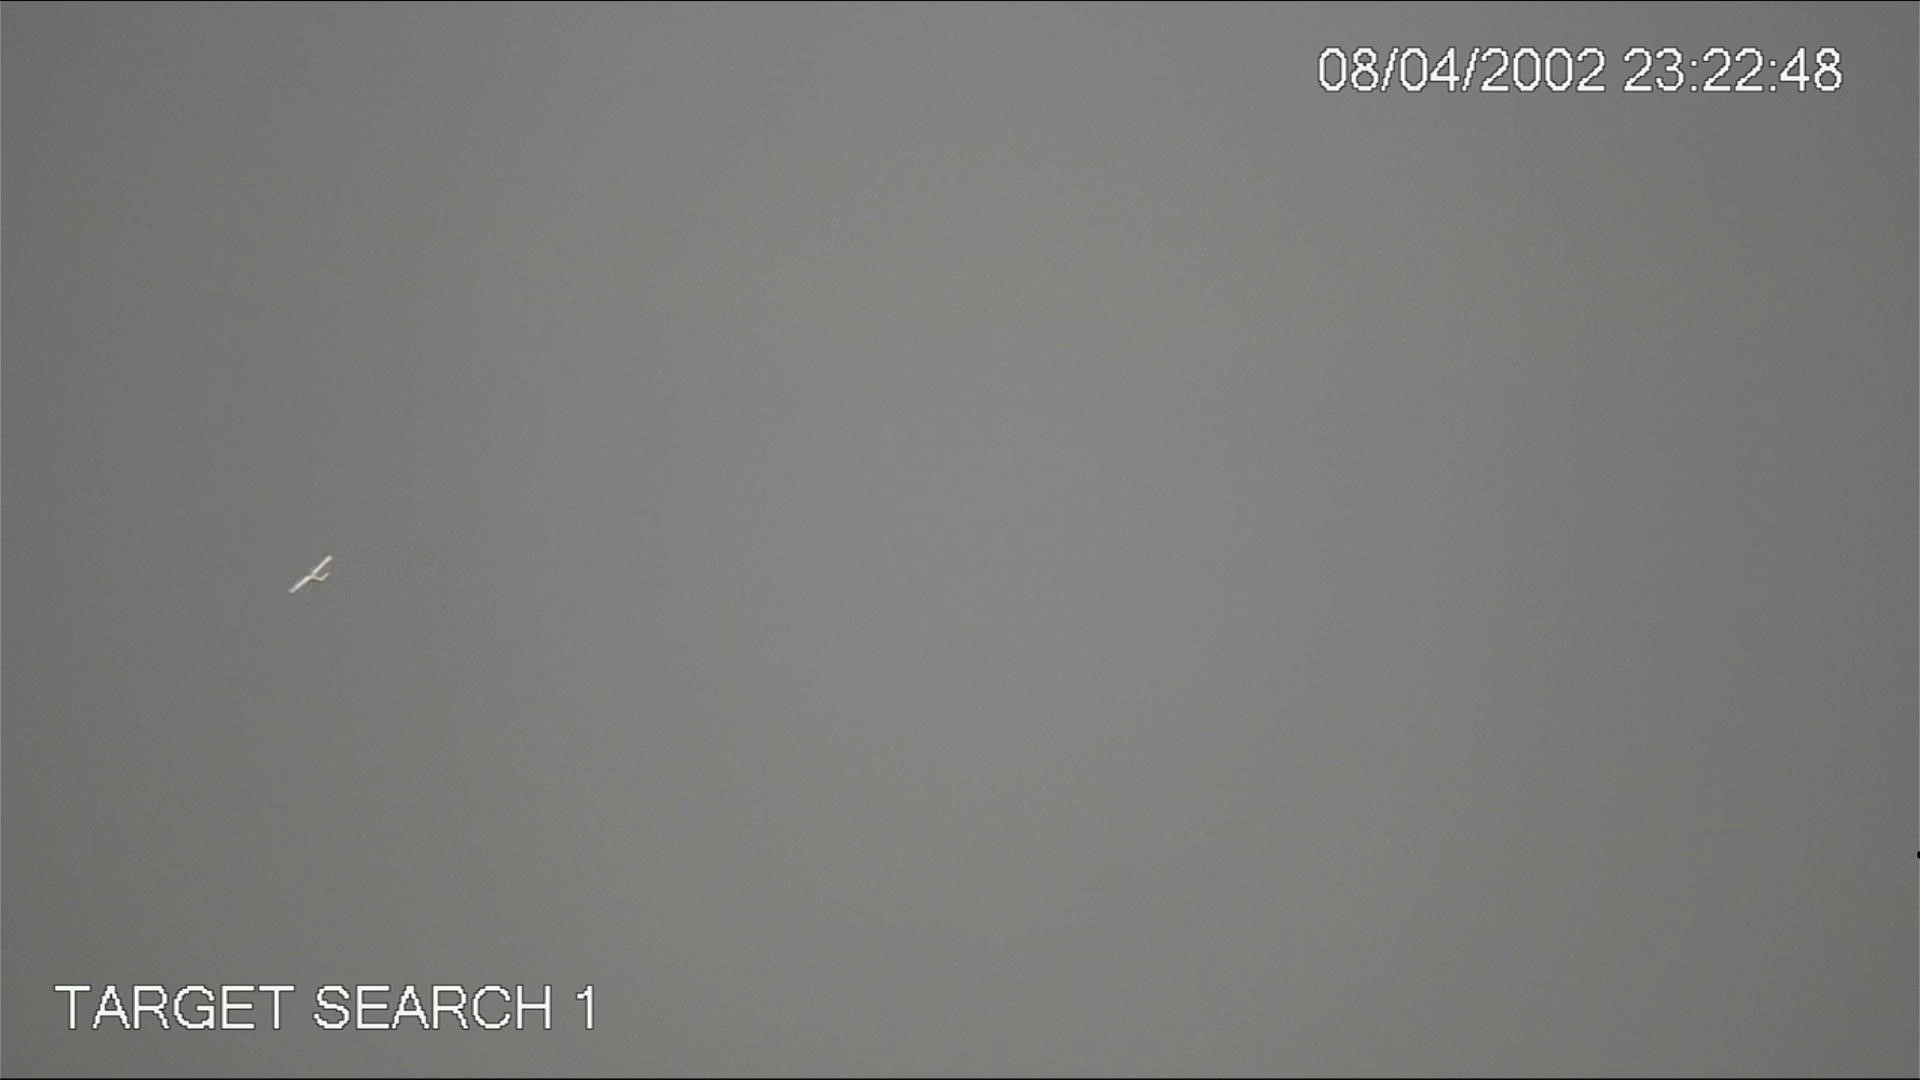SU_30: (277, 554, 348, 607)
